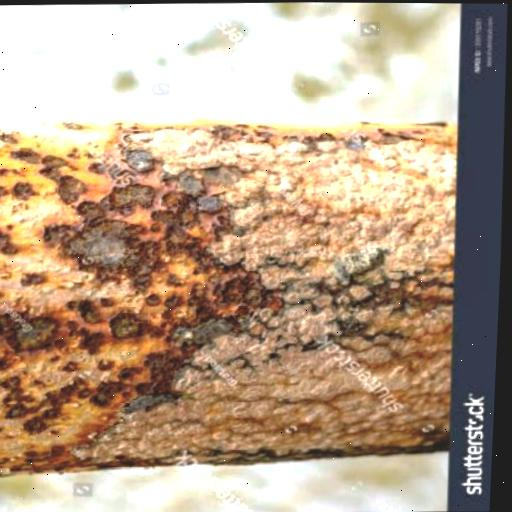corrosion: (0, 114, 461, 475)
